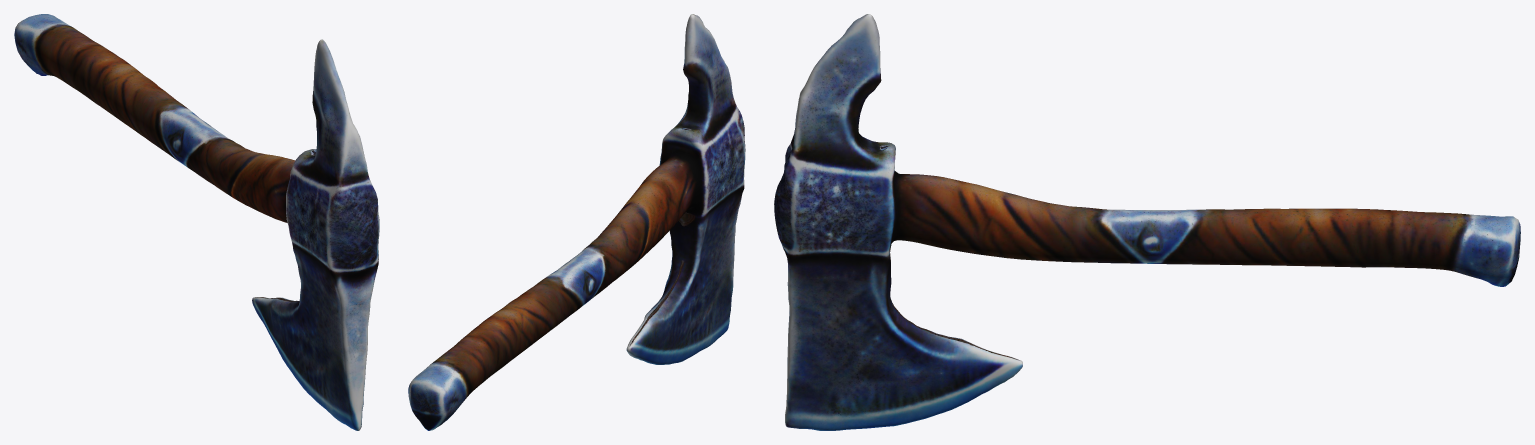
The model's file is f7cd00edd3ad_an_iron_axe_for_ope.fbx.
The picture shows the model from 3 angles, left to right: view 1: azimuth 30°, elevation 25°; view 2: azimuth 150°, elevation 25°; view 3: azimuth 270°, elevation 25°; orthographic projection. The views are drawn at different scales.
Visible parts, largest first — view 1: mesh; view 2: mesh; view 3: mesh.
Boxes of the visible parts, <box> form: mesh: <box>14,14,379,430</box>; mesh: <box>408,14,745,430</box>; mesh: <box>774,14,1520,430</box>.
Bounding box in the file's own units: 9.26 × 61.49 × 99.98.
